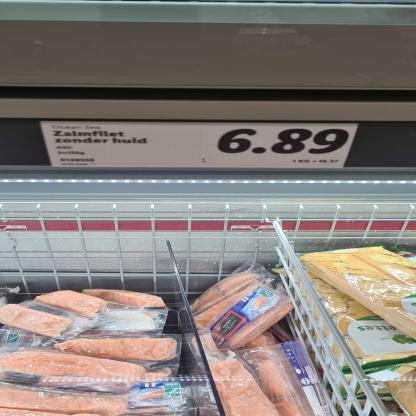prtg: (41, 122, 360, 170)
